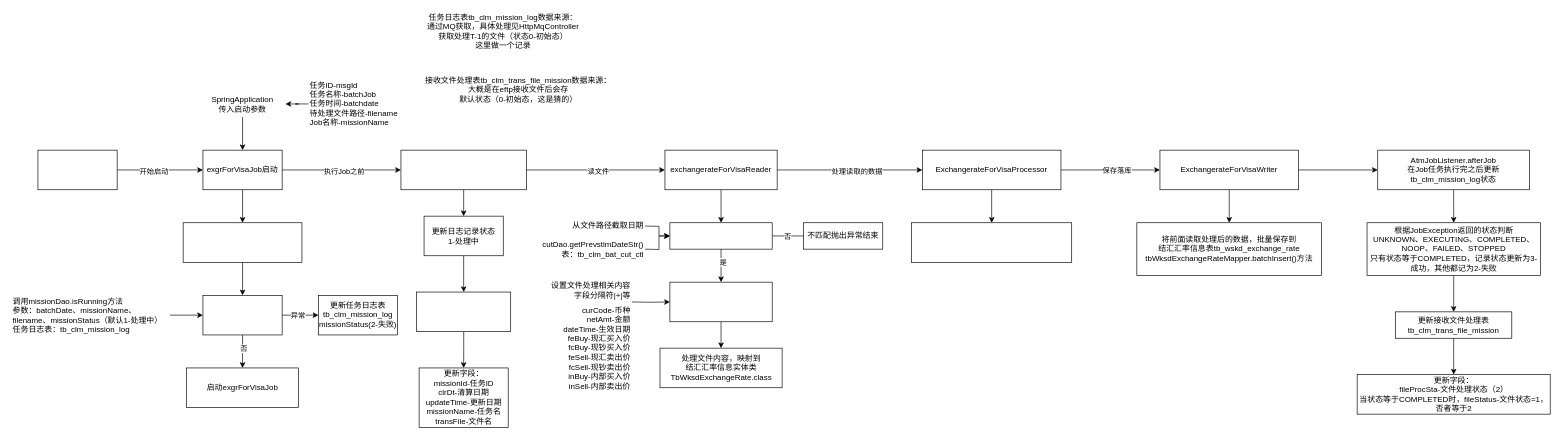
This 1562x439 diagram has some shape labels left out. The shapes that lost their labels are listed below. From the top down, each one's centre as x and y in pixels, then its label:
the point at 77,169: 触发Job
the point at 463,169: AtmJobListener.beforeJob 在Job任务执行先更新状态 tb_clm_mission_log
the point at 242,242: AtmJobCommandLineRunner
the point at 720,235: 校验会计日期的上一日期 与文件名截取日期是否匹配
the point at 991,242: 对每条记录做处理 dataType-数据类型（01-Visa 02-Master） accDt-会计日期 lastUpdTm-最后更新日期
the point at 242,315: 检查是否有相同任务正在运行
the point at 463,311: 根据文件路径判断是否需要更新接收文件处理表 tb_clm_trans_file_mission
the point at 720,301: 通过文件路径加载资源 设置编码GBK
